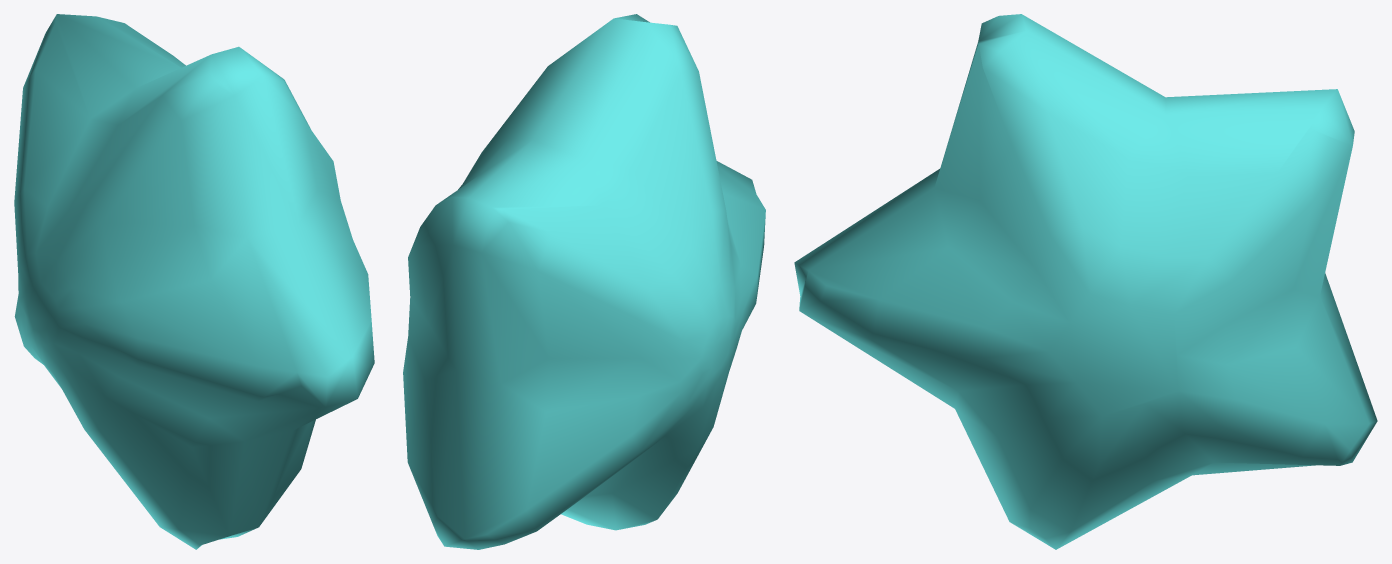
3 renders of one model, left to right at view 1: azimuth 30°, elevation 25°; view 2: azimuth 150°, elevation 25°; view 3: azimuth 270°, elevation 25°, orthographic. The views are drawn at different scales.
Parts seen in each view (by area): view 1: star.002; view 2: star.002; view 3: star.002.
Part boxes in pixels (x1,y1,x2,y2): star.002: [14, 14, 374, 549]; star.002: [403, 14, 765, 549]; star.002: [794, 14, 1377, 549].
Bounding box in the file's own units: 1.2 × 2.05 × 2.11.
